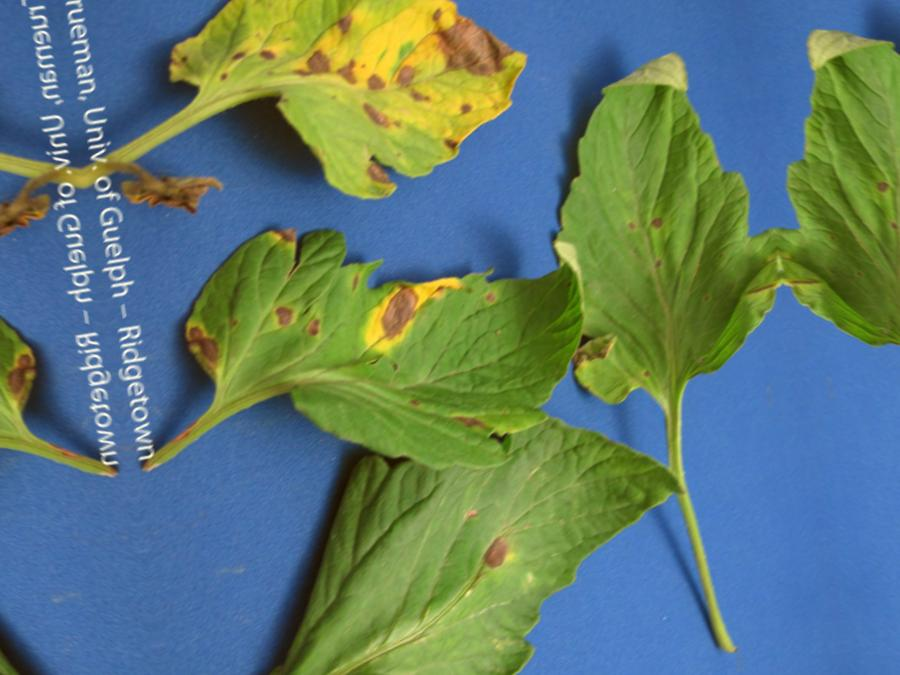Tomato Early blight leaf: (159, 401, 725, 675), (149, 180, 607, 505), (506, 0, 799, 446), (125, 0, 554, 226)
